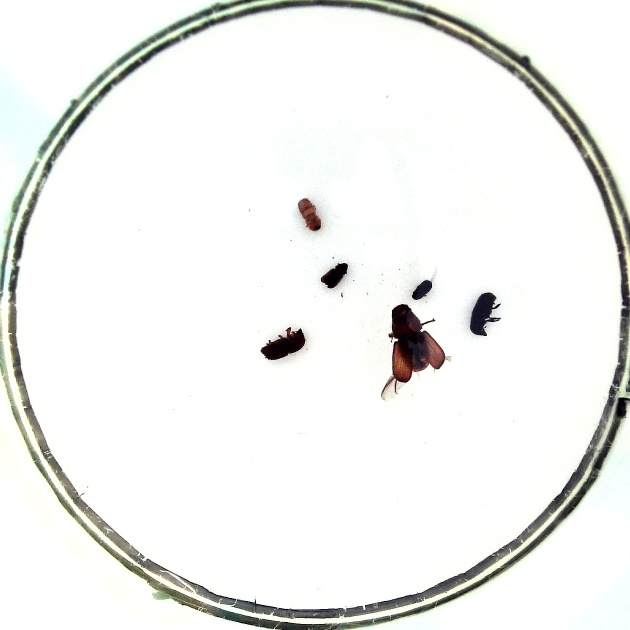acuminatus: (412, 280, 432, 299)
armandi: (470, 292, 496, 336)
coleoptera: (298, 198, 321, 231), (320, 263, 348, 288)
leconte: (391, 304, 430, 372)
linnaeus: (260, 328, 306, 360)
